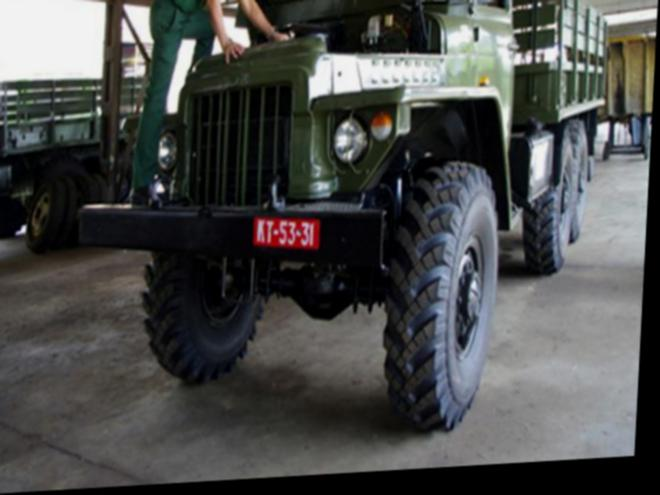License_Plate: (254, 212, 322, 253)
